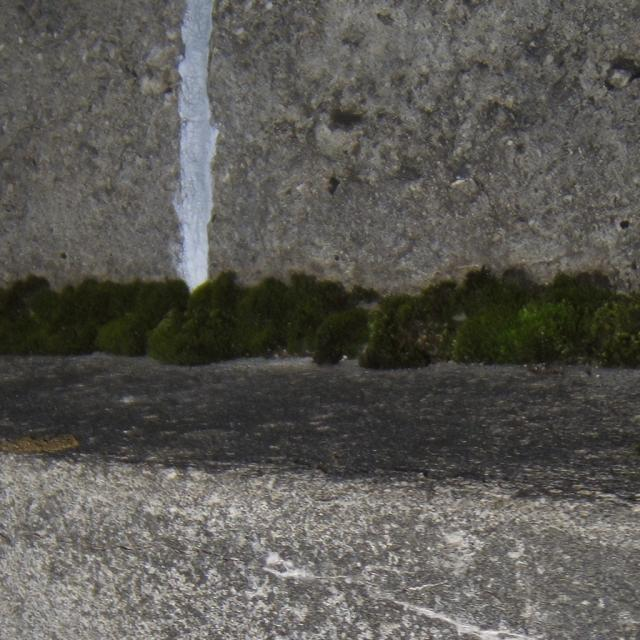D01: (178, 2, 217, 293)
